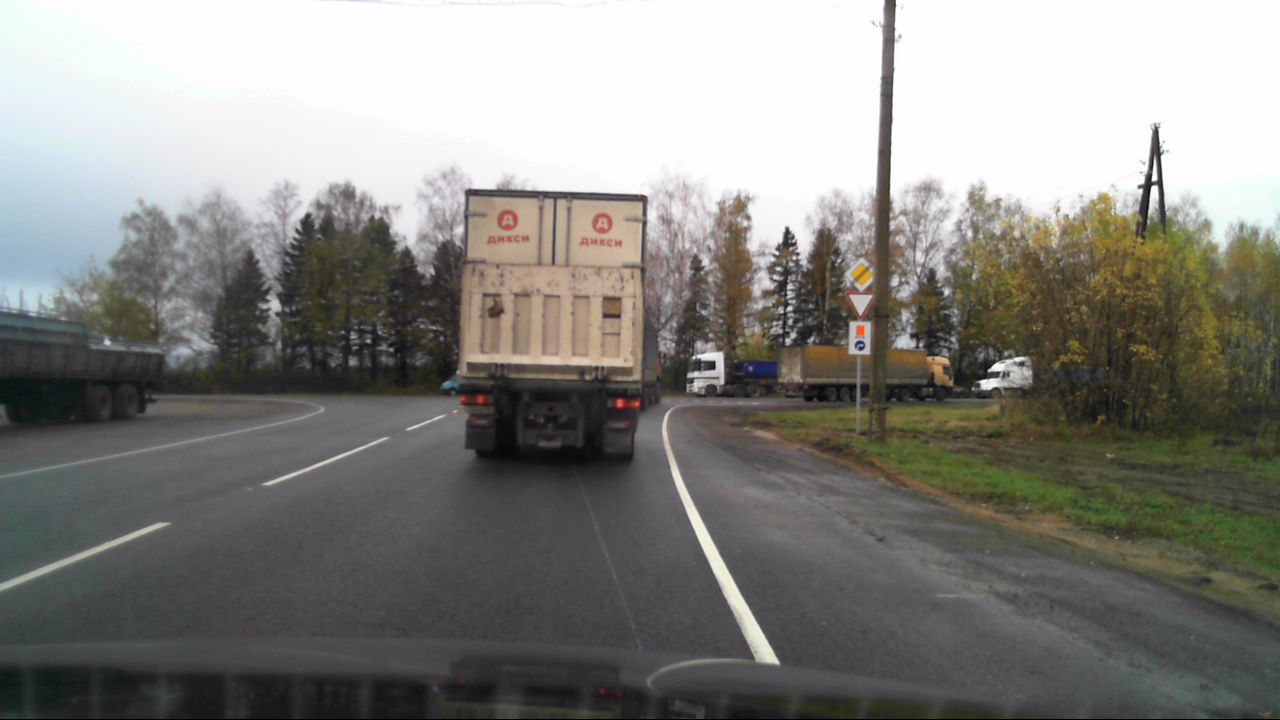main road: (844, 258, 877, 291)
